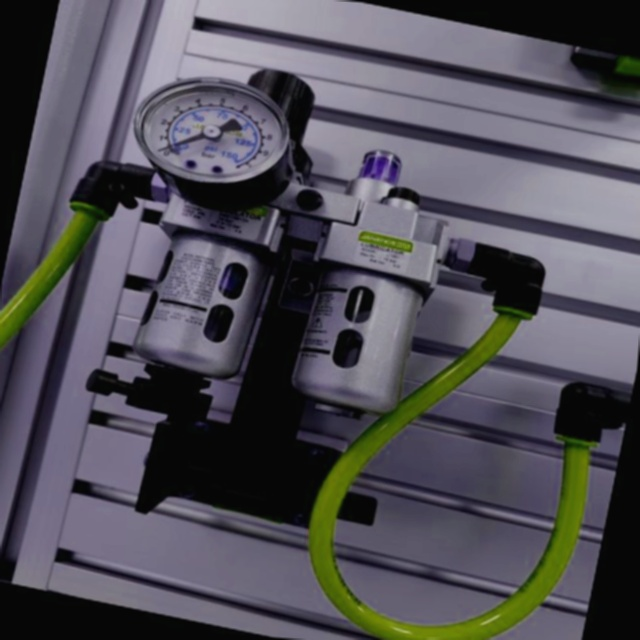FRL unit: (9, 23, 559, 590)
push button: (116, 58, 312, 224)
